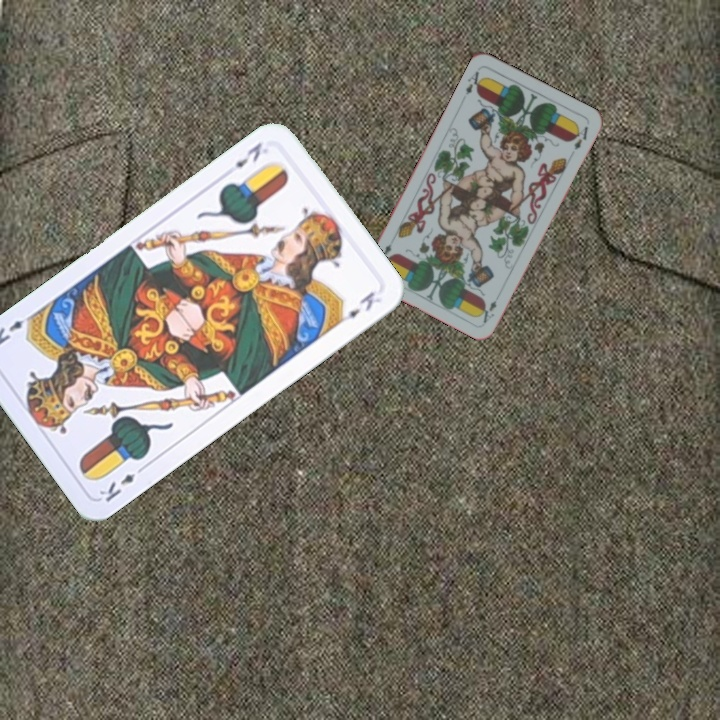EA: (461, 67, 487, 97), (478, 296, 499, 326)
EK: (95, 461, 149, 505), (230, 138, 265, 171)
